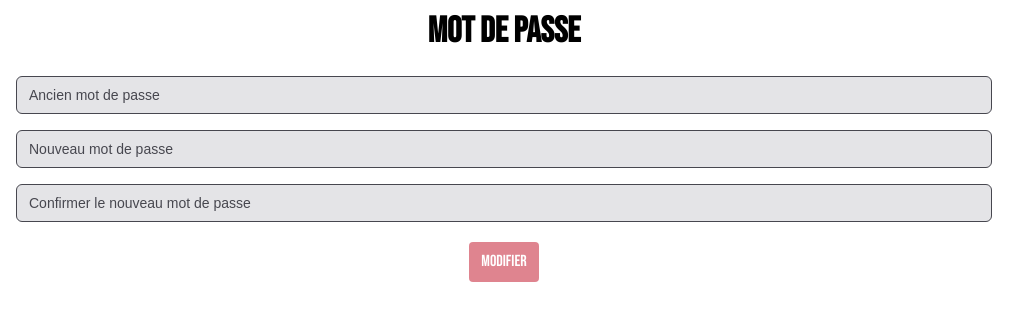
ChangePasswordModal › affiche l'erreur retournee par Better Auth
Type "AncienMotDePasse" into the password field with placeholder "Ancien mot de passe". click: (504, 95)
box: [16,76,992,114]
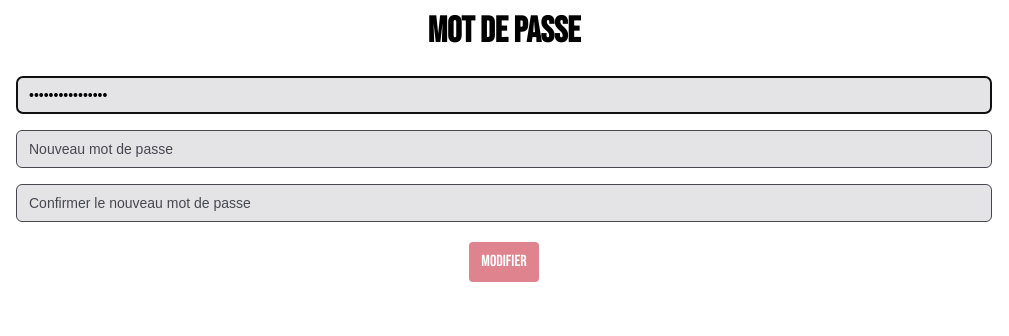
Type "NouveauMotDePasse" into the password field with placeholder "Nouveau mot de passe". click: (504, 149)
box: [16,130,992,168]
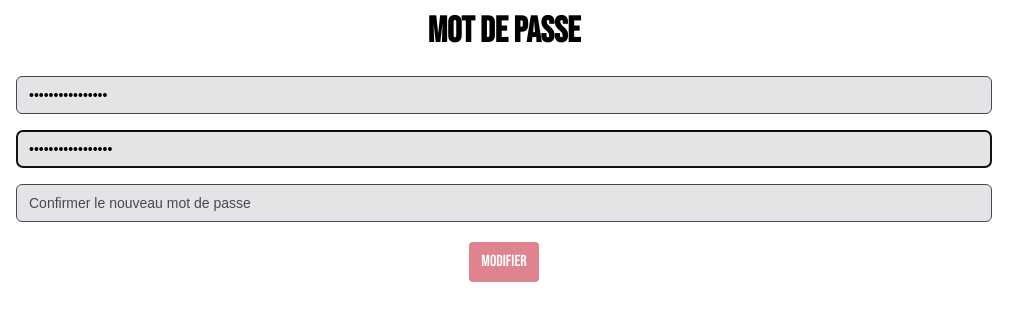
Type "NouveauMotDePasse" into the password field with placeholder "Confirmer le nouveau mot de passe". click: (504, 203)
box: [16,184,992,222]
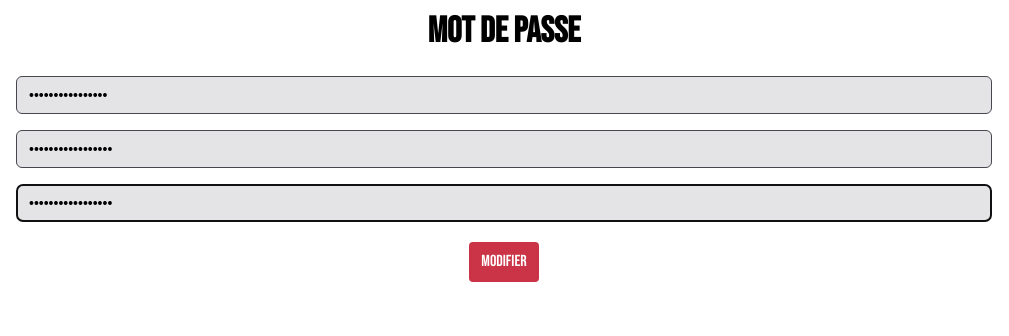
Click the button "Modifier". click: click(504, 262)
box: [469,242,539,282]
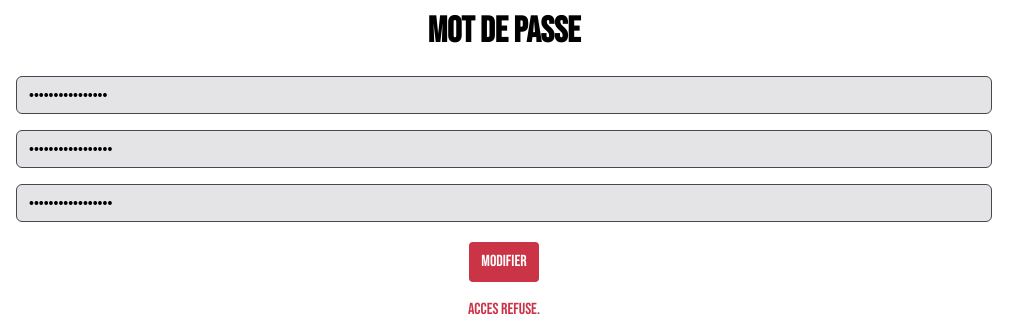
Now the text "Acces refuse." is shown, box [468,300,540,319]
